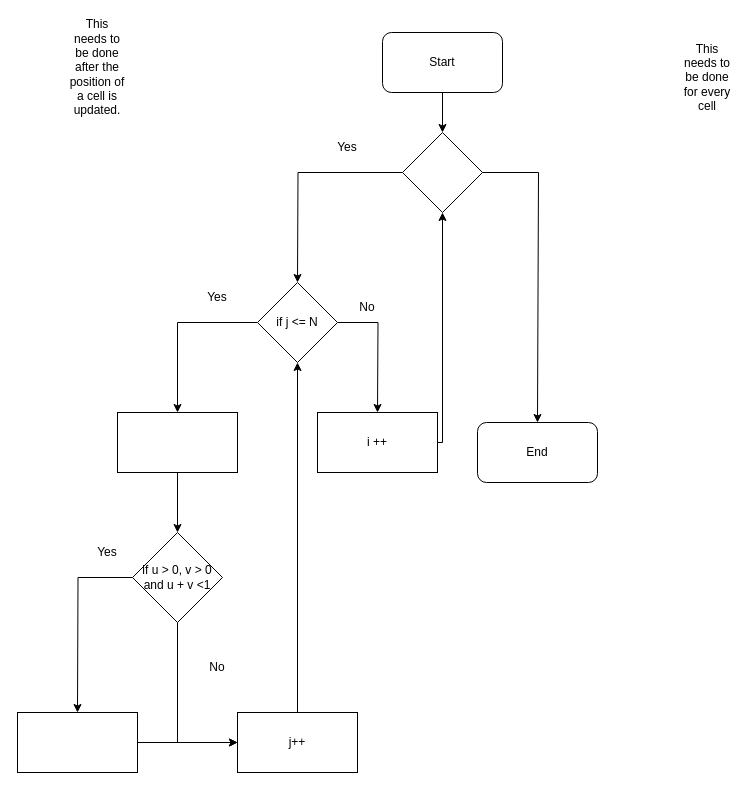
The diagram is 755 pixels wide and 790 high, and some of its shapes have lost their labels. Here are the shapes that lost their labels. From the top down, the centre of each, then its label:
the point at 442,172: If i <= N
the point at 177,442: Solve (10) for (xa,ya) = (xi,yi) & (x2,y2) = (xj,yj) & (x3,y3) = (x(j+1),y(j+1))
the point at 77,742: Collision merge (xi,yi) with closest node
